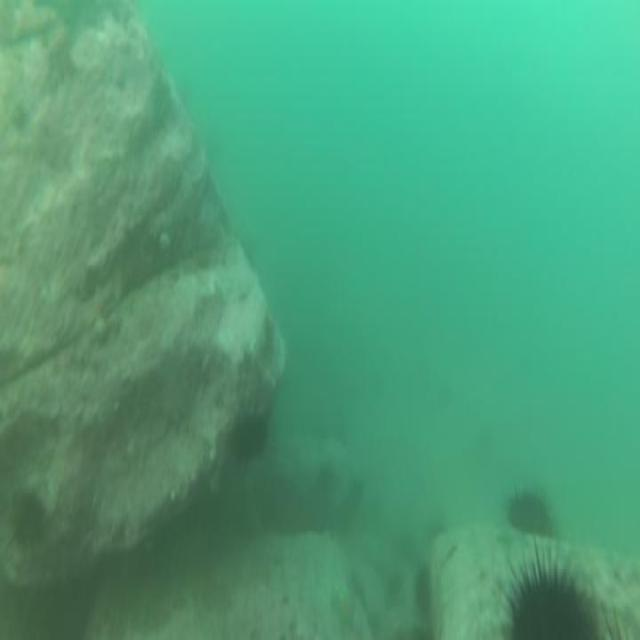echinus: (496, 540, 606, 640), (505, 482, 555, 547), (228, 403, 270, 472), (10, 482, 49, 555), (410, 561, 434, 619)
